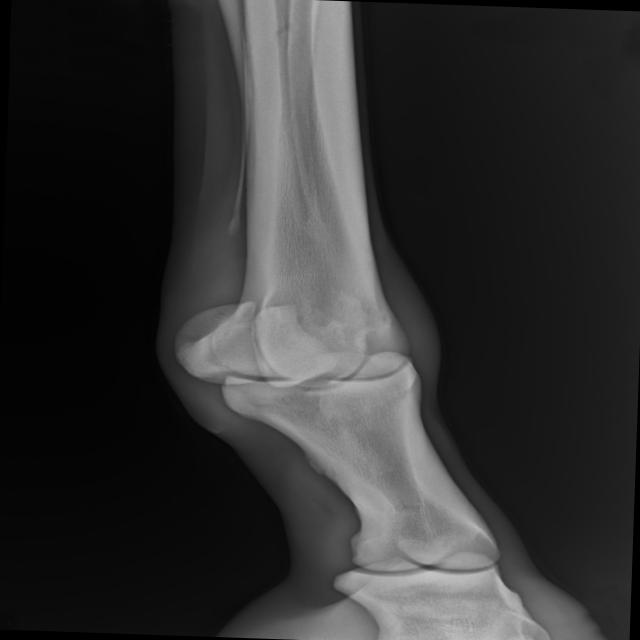joint-ht8A: (126, 229, 480, 483)
